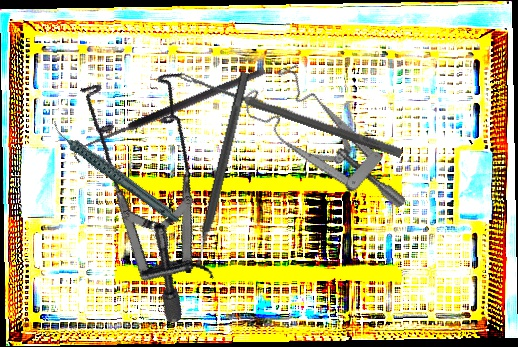Fixation Ring: (183, 69, 261, 279)
Handpiece: (49, 99, 181, 246)
Hook Surgical: (70, 65, 271, 166)
Speculum: (11, 40, 266, 328), (237, 46, 407, 249)
Surgical Spoon: (177, 71, 404, 158)
